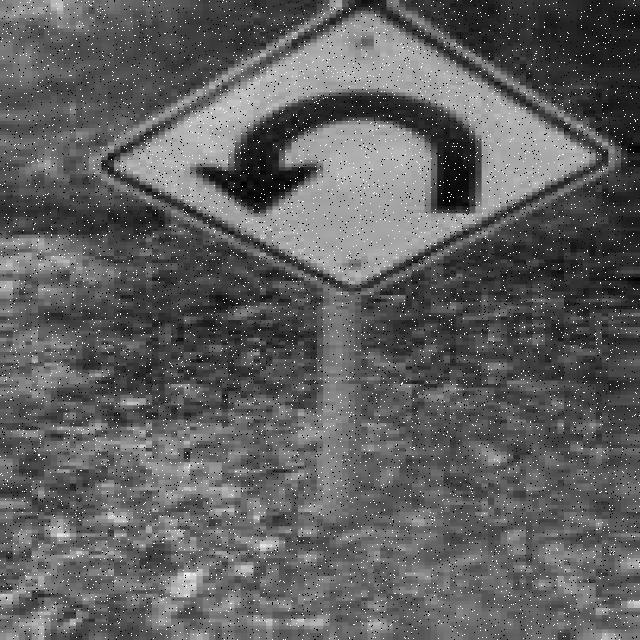Uturn: (89, 0, 618, 293)
